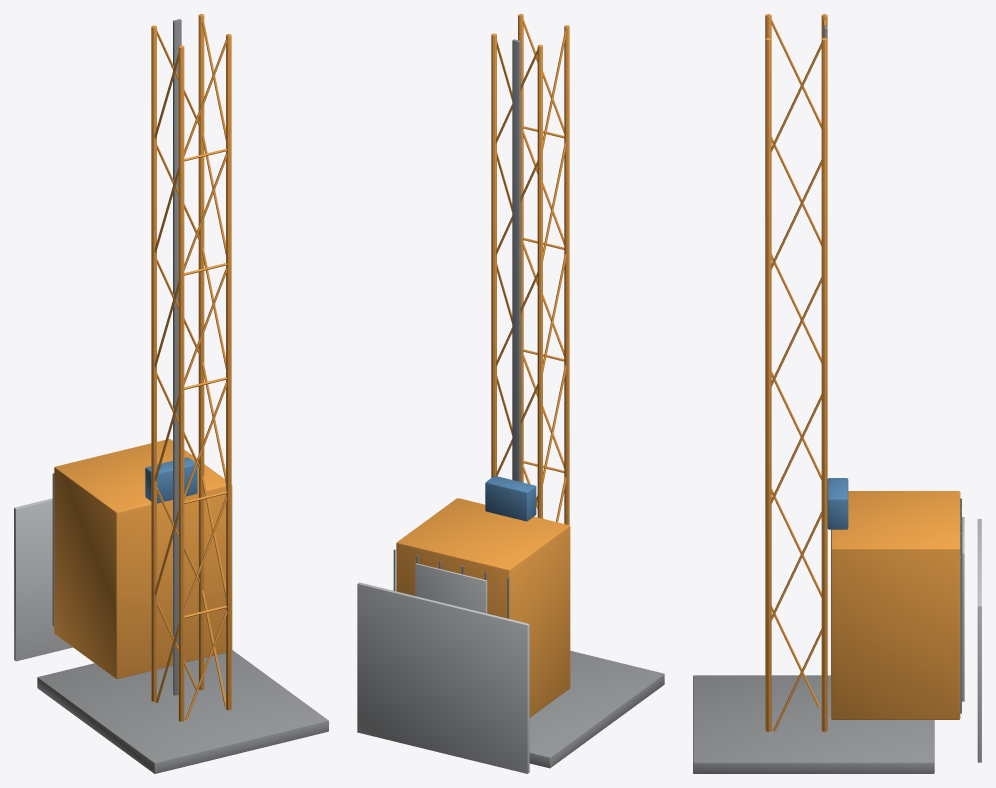
Rendered from EQP-ELV-002_anim.glb.
3 views of the same model, side by side, from view 1: azimuth 30°, elevation 25°; view 2: azimuth 150°, elevation 25°; view 3: azimuth 270°, elevation 25° (orthographic). The views are drawn at different scales.
Visible parts, largest first — view 1: EQP-ELV-002_anim1, EQP-ELV-002_anim0; view 2: EQP-ELV-002_anim1, EQP-ELV-002_anim0; view 3: EQP-ELV-002_anim1, EQP-ELV-002_anim0.
Boxes of the visible parts, x1,y1,x2,y2 form: EQP-ELV-002_anim1: (14,14,328,773); EQP-ELV-002_anim0: (52,439,232,678); EQP-ELV-002_anim1: (357,14,664,773); EQP-ELV-002_anim0: (393,476,570,717); EQP-ELV-002_anim1: (693,14,981,773); EQP-ELV-002_anim0: (827,478,964,719).
Bounding box in the file's own units: 2.4 × 9.02 × 3.35.
